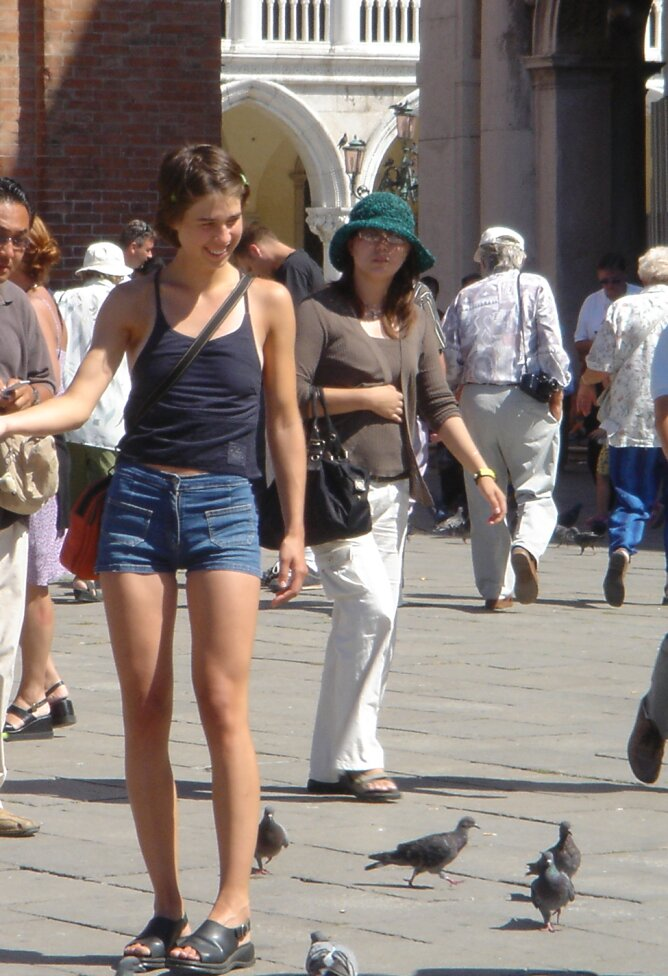person: (66, 136, 324, 976), (274, 187, 461, 804), (1, 177, 53, 850)
